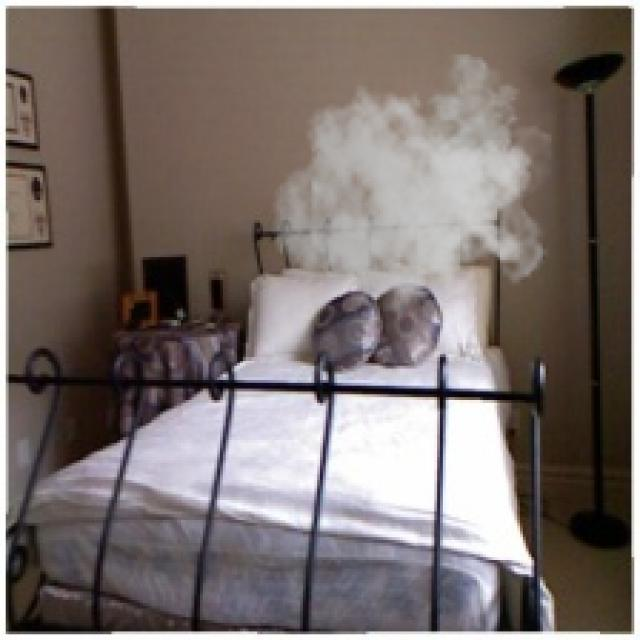smoke: (272, 55, 552, 332)
